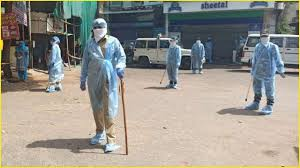mask: (93, 19, 106, 43), (259, 29, 269, 44), (169, 36, 177, 47), (50, 37, 60, 45), (196, 38, 201, 44)
